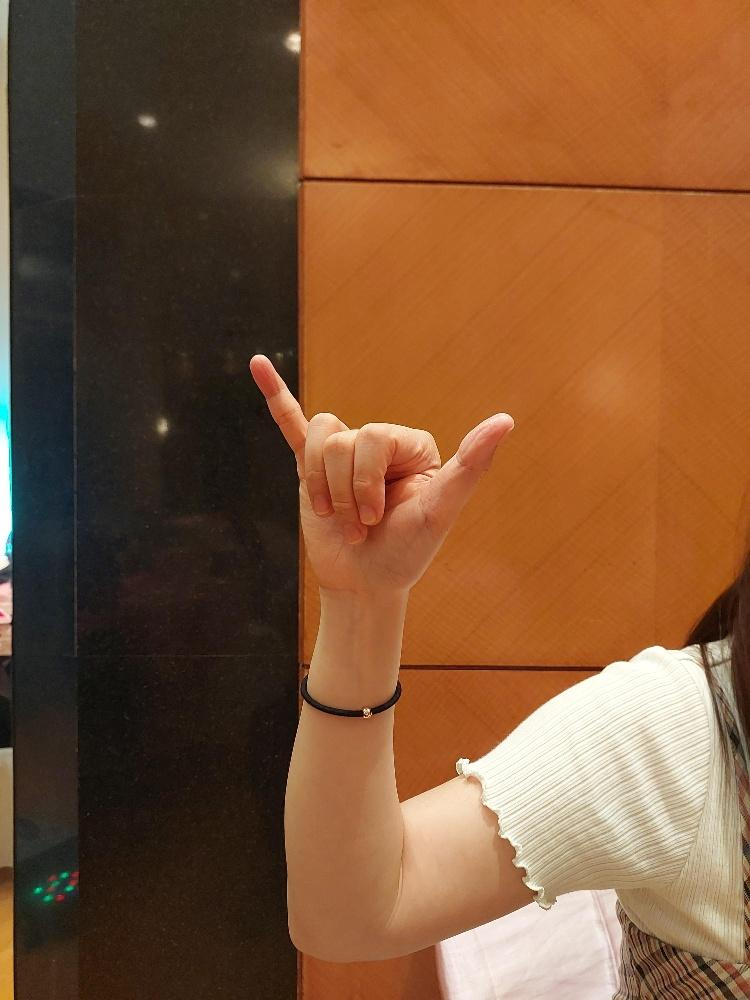y: (245, 350, 516, 611)
